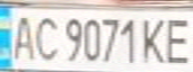0: (81, 14, 103, 63)
1: (118, 15, 142, 64)
7: (100, 15, 121, 63)
9: (60, 14, 84, 63)
A: (6, 10, 39, 62)
C: (30, 11, 60, 62)
E: (160, 14, 193, 65)
K: (136, 14, 172, 65)
